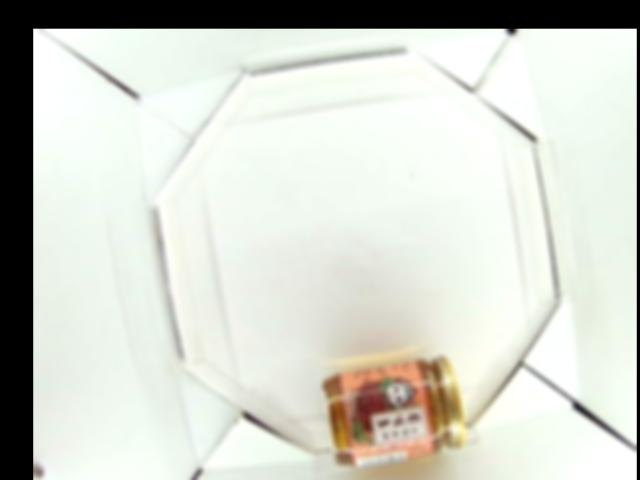Bottle: (318, 355, 466, 465)
